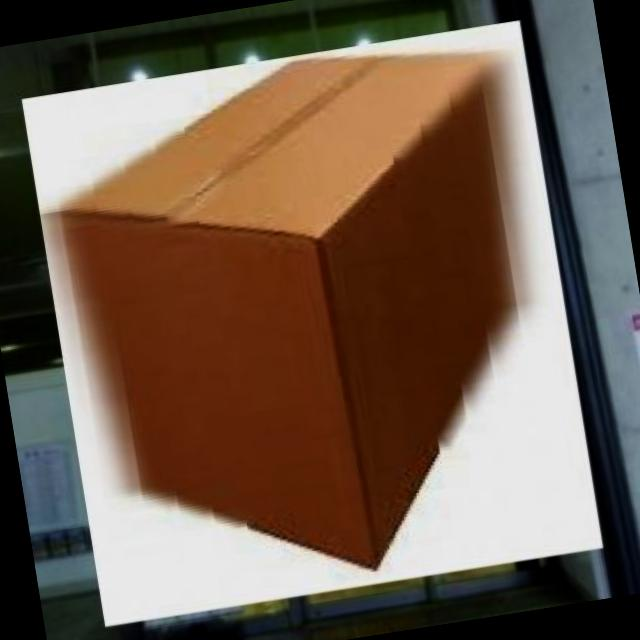box: (14, 11, 614, 637)
